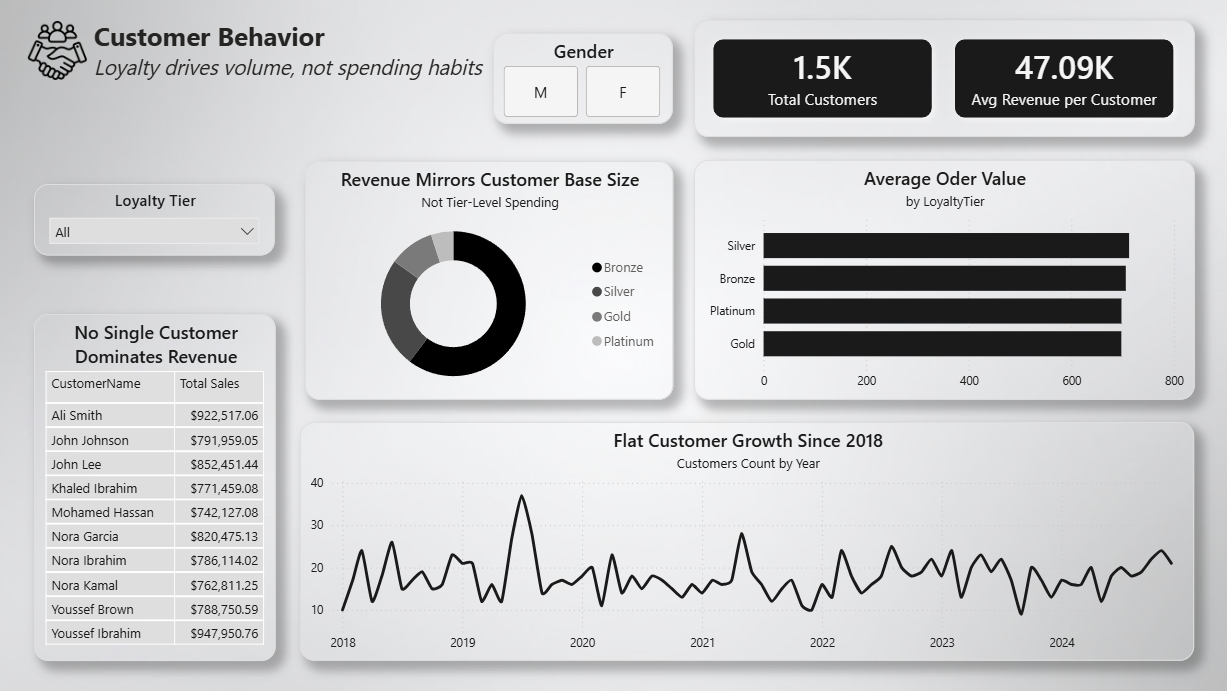

The page's visual inventory and layout, read from the dashboard file:
{"tool":"powerbi","page":{"name":"Customer Behavior","canvas":[1280,720],"ordinal":2},"visuals":[{"type":"cardVisual","fields":{"Data":[" Measures.Total Customers"," Measures.Avg Revenue per Customer"]},"box":[721.2,20.6,517.5,121.1],"z":0},{"type":"donutChart","title":"Revenue Mirrors Customer Base Size","fields":{"Category":["dimcustomer.LoyaltyTier"],"Y":[" Measures.Total Sales"]},"box":[318.2,166.4,380.9,247.3],"z":1000},{"type":"tableEx","title":"No Single Customer Dominates Revenue","fields":{"Values":["dimcustomer.CustomerName"," Measures.Total Sales"]},"box":[38.5,324.8,250.5,359.2],"z":2000},{"type":"lineChart","title":"Flat Customer Growth Since 2018","fields":{"Y":["CountNonNull(dimcustomer.CustomerKey)"],"Category":["dimcustomer.SignupDate.Variation.Date Hierarchy.Year","dimcustomer.SignupDate.Variation.Date Hierarchy.Month"]},"box":[313.6,436.4,925.5,247.3],"z":3000},{"type":"barChart","fields":{"Category":["dimcustomer.LoyaltyTier"],"Y":[" Measures.Average Oder Value"]},"box":[721.2,165.2,517.5,247.7],"z":4000},{"type":"advancedSlicerVisual","fields":{"Values":["dimcustomer.Gender"]},"box":[513.4,34.4,185.8,93.6],"z":5000},{"type":"slicer","title":"Loyalty Tier","fields":{"Values":["dimcustomer.LoyaltyTier"]},"box":[38.5,189.9,249.1,74.3],"z":6000},{"type":"textbox","box":[95,13.8,437.7,85.3],"z":7000},{"type":"image","box":[28.5,21.7,66.6,61.1],"z":8000}]}

Visuals, with their boxes in screenshot pixels (x1, y1, x2, y2), scaled from the page's 1280x720 canvas onto the 1227x691 screenshot:
cardVisual -  Measures.Total Customers x  Measures.Avg Revenue per Customer: bbox=[691, 20, 1187, 136]
"Revenue Mirrors Customer Base Size" donutChart: bbox=[305, 160, 670, 397]
"No Single Customer Dominates Revenue" tableEx: bbox=[37, 312, 277, 656]
"Flat Customer Growth Since 2018" lineChart: bbox=[301, 419, 1188, 656]
barChart - dimcustomer.LoyaltyTier x  Measures.Average Oder Value: bbox=[691, 159, 1187, 396]
advancedSlicerVisual - dimcustomer.Gender: bbox=[492, 33, 670, 123]
"Loyalty Tier" slicer: bbox=[37, 182, 276, 254]
textbox: bbox=[91, 13, 511, 95]
image: bbox=[27, 21, 91, 79]
